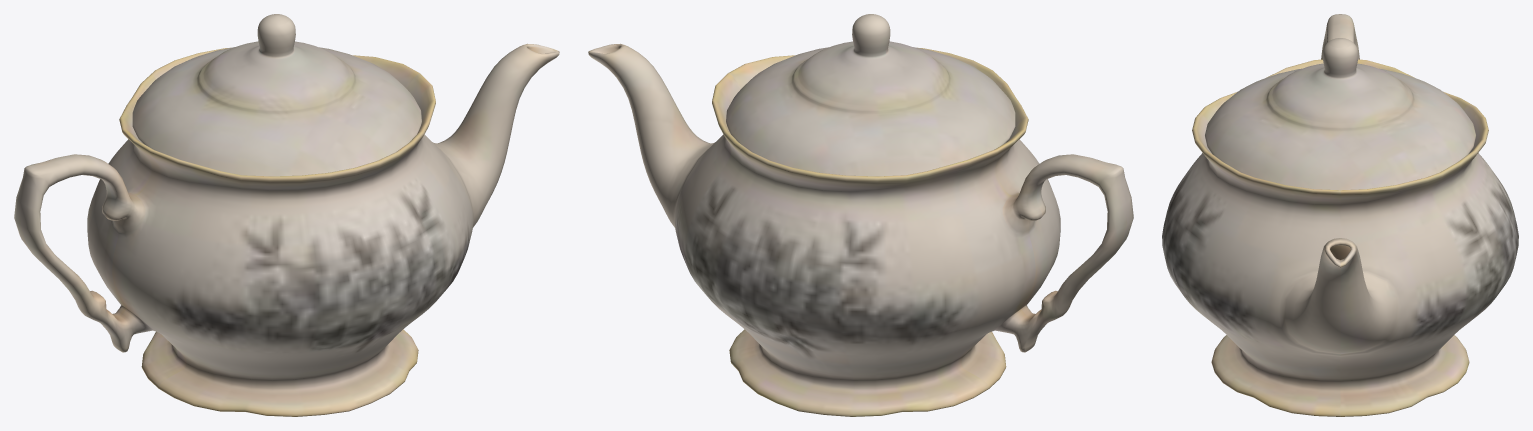
File: teapot.glb
3 renders of one model, left to right at view 1: azimuth 30°, elevation 25°; view 2: azimuth 150°, elevation 25°; view 3: azimuth 270°, elevation 25°, orthographic. The views are drawn at different scales.
Visible parts, largest first — view 1: teapot_body; view 2: teapot_body; view 3: teapot_body.
Part boxes in pixels (x1,y1,x2,y2): teapot_body: [14, 14, 559, 416]; teapot_body: [588, 14, 1133, 416]; teapot_body: [1162, 14, 1518, 416].
Size of the model in its own units: 0.26 by 0.1596 by 0.16.
1 material, 1 textured.
